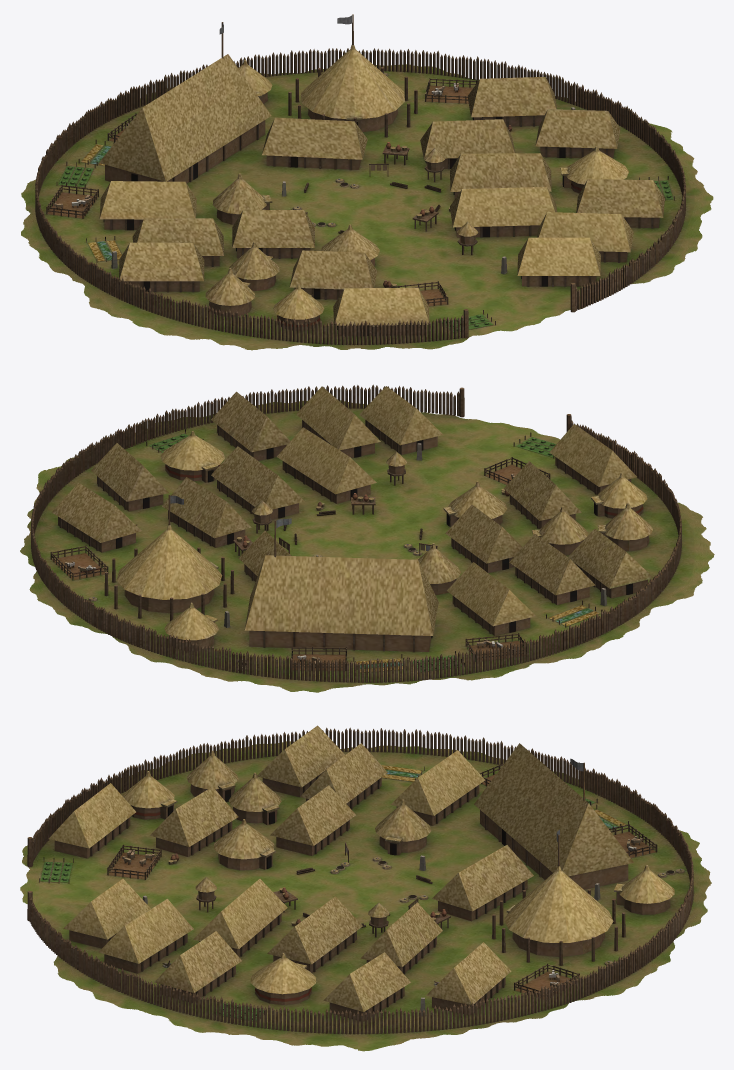
File: stone-town-big-a-europe.glb
3 views of the same model, one above another, from view 1: azimuth 30°, elevation 25°; view 2: azimuth 150°, elevation 25°; view 3: azimuth 270°, elevation 25° (orthographic). The views are drawn at different scales.
Parts seen in each view (by area): view 1: LOD0; view 2: LOD0; view 3: LOD0.
Part boxes in pixels (x1,y1,x2,y2): LOD0: (21,14,713,350); LOD0: (20,384,714,692); LOD0: (20,725,711,1051).
Size of what is drawn, in the model's own units: 8.03 by 1.4 by 7.61.
Materials: 3 (3 with a texture image).
